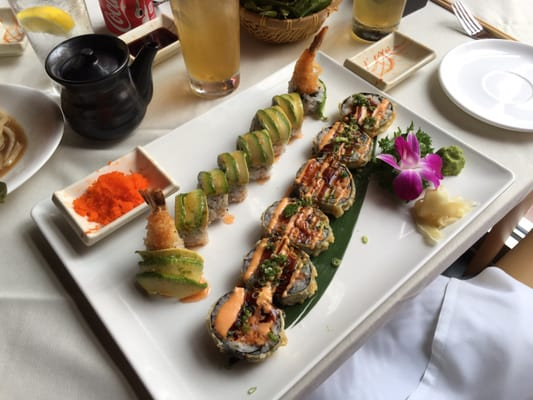pizza: (45, 33, 149, 141), (169, 0, 242, 98), (8, 0, 95, 70), (351, 0, 409, 42)
soup: (134, 188, 210, 302), (133, 246, 210, 302)
sushi: (239, 0, 343, 45)
